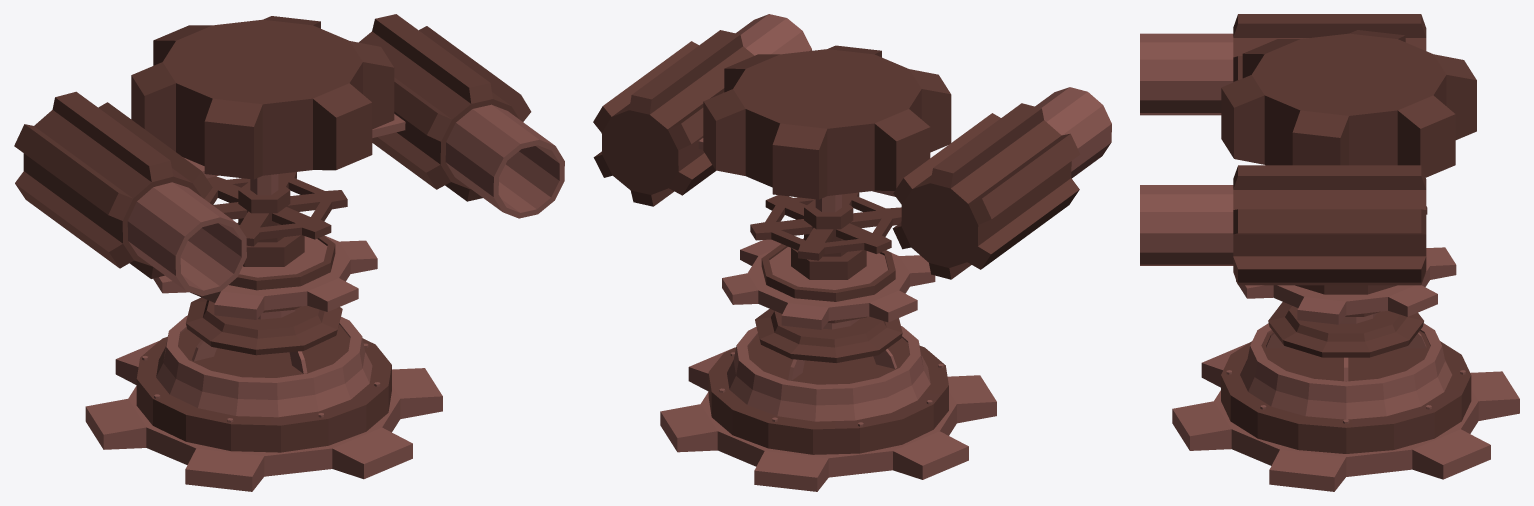
Rendered from gearcannon-1.glb.
3 renders of one model, left to right at view 1: azimuth 30°, elevation 25°; view 2: azimuth 150°, elevation 25°; view 3: azimuth 270°, elevation 25°, orthographic. The views are drawn at different scales.
Visible parts, largest first — view 1: GearCannon_1_Gun, GearCannon_1_Base, GearCannon_1_Mid; view 2: GearCannon_1_Gun, GearCannon_1_Base, GearCannon_1_Mid; view 3: GearCannon_1_Gun, GearCannon_1_Base, GearCannon_1_Mid.
Part boxes in pixels (bbox=[...]): GearCannon_1_Gun: bbox=[14, 14, 564, 296]; GearCannon_1_Base: bbox=[85, 236, 442, 491]; GearCannon_1_Mid: bbox=[153, 172, 377, 319]; GearCannon_1_Gun: bbox=[593, 14, 1111, 279]; GearCannon_1_Base: bbox=[660, 244, 996, 491]; GearCannon_1_Mid: bbox=[722, 192, 935, 329]; GearCannon_1_Gun: bbox=[1140, 14, 1476, 285]; GearCannon_1_Base: bbox=[1172, 285, 1519, 491]; GearCannon_1_Mid: bbox=[1236, 206, 1456, 324].
Bounding box in the file's own units: 1.88 × 1.51 × 1.5.
